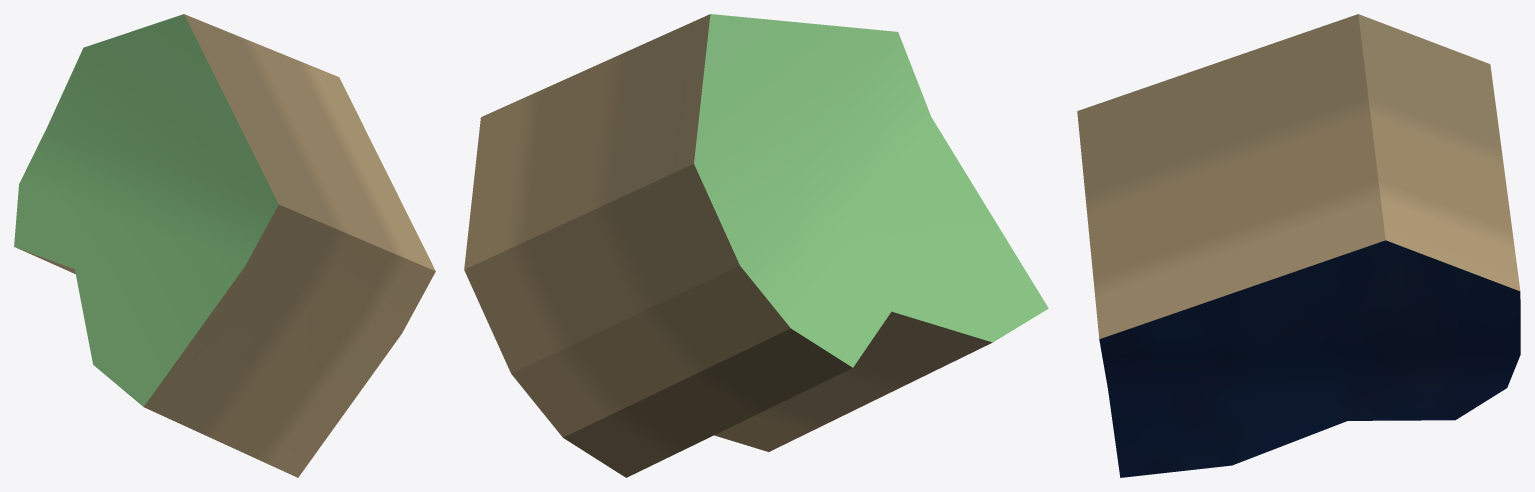
File: 05f8_Suriname.glb
The picture shows the model from 3 angles, left to right: view 1: azimuth 30°, elevation 25°; view 2: azimuth 150°, elevation 25°; view 3: azimuth 270°, elevation 25°; orthographic projection. The views are drawn at different scales.
Visible parts, largest first — view 1: part_0; view 2: part_0; view 3: part_0.
Part boxes in pixels (x1,y1,x2,y2): part_0: [14, 14, 435, 477]; part_0: [464, 14, 1048, 477]; part_0: [1077, 14, 1520, 477].
Bounding box in the file's own units: 0.3227 × 0.3749 × 0.3297.
Materials: 1 (1 with a texture image).
